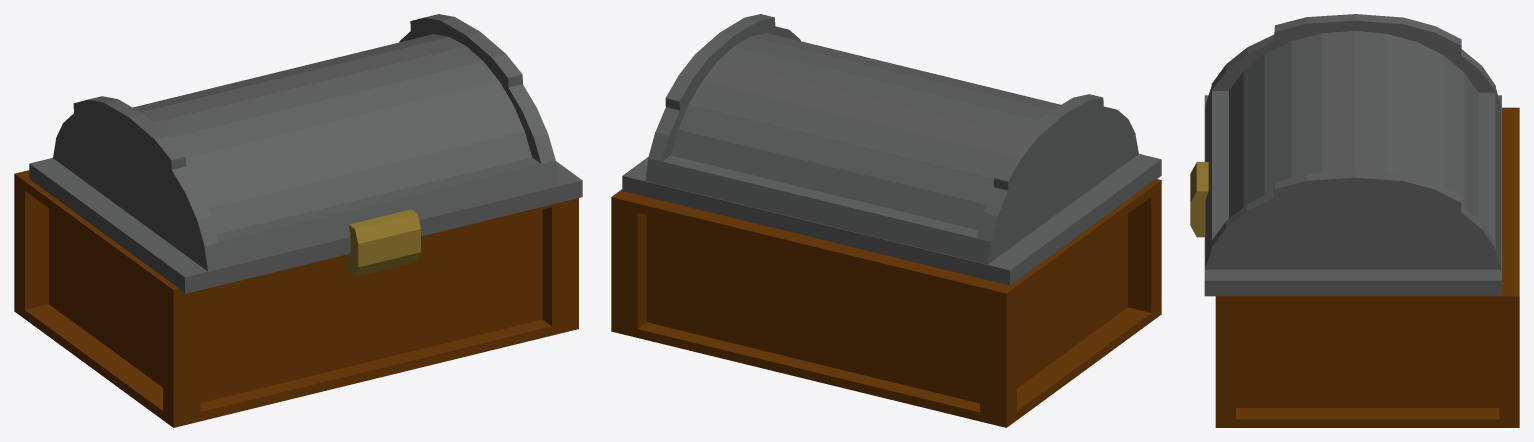
Rendered from sandık animasyonu.fbx.
3 views of the same model, side by side, from view 1: azimuth 30°, elevation 25°; view 2: azimuth 150°, elevation 25°; view 3: azimuth 270°, elevation 25° (orthographic). The views are drawn at different scales.
Parts seen in each view (by area): view 1: Cube.001, Cube; view 2: Cube.001, Cube; view 3: Cube.001, Cube.
Part boxes in pixels (x1=…): Cube.001: x1=29, y1=14, x2=582, y2=293; Cube: x1=14, y1=170, x2=578, y2=427; Cube.001: x1=622, y1=14, x2=1161, y2=285; Cube: x1=611, y1=178, x2=1161, y2=427; Cube.001: x1=1190, y1=14, x2=1501, y2=296; Cube: x1=1215, y1=107, x2=1519, y2=427.
Bounding box in the file's own units: 205 × 121 × 151.
